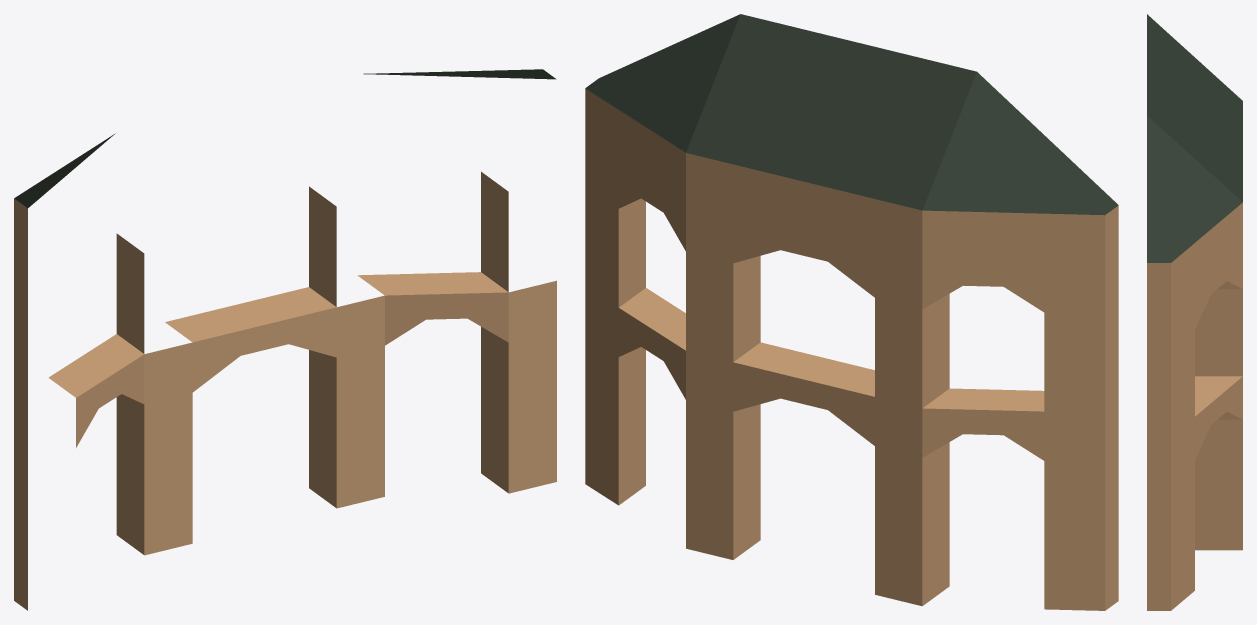
Rendered from cruz_blanca.glb.
3 renders of one model, left to right at view 1: azimuth 30°, elevation 25°; view 2: azimuth 150°, elevation 25°; view 3: azimuth 270°, elevation 25°, orthographic. The views are drawn at different scales.
Visible parts, largest first — view 1: Arches; view 2: Arches; view 3: Arches.
Boxes of the visible parts, x1,y1,x2,y2 form: Arches: [14, 69, 556, 610]; Arches: [585, 14, 1118, 610]; Arches: [1147, 14, 1242, 610].
Size of the model in its own units: 11 by 10 by 2.
